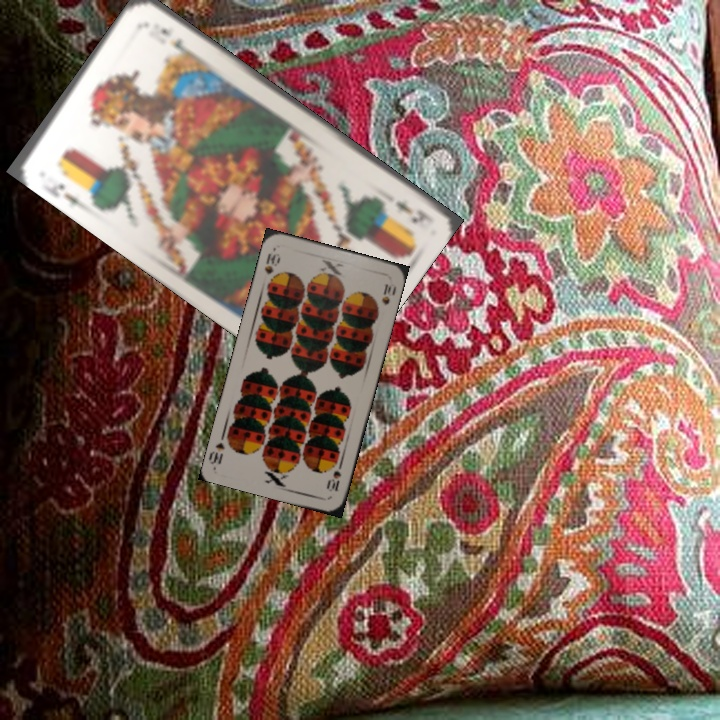EK: (39, 179, 86, 210), (391, 197, 431, 226)
S10: (324, 459, 345, 494), (260, 249, 282, 277)
